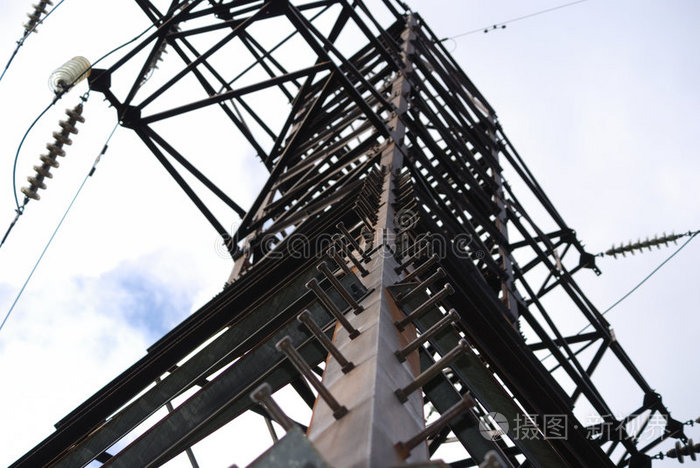insulator: (21, 109, 88, 205), (608, 230, 682, 259), (48, 53, 91, 87), (23, 1, 46, 33)
